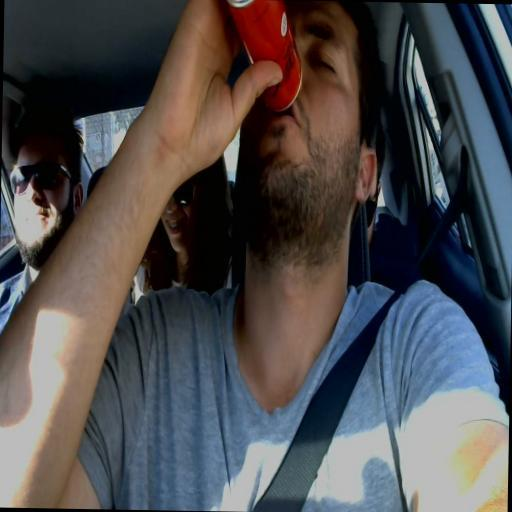Drinking: (208, 0, 372, 229)
